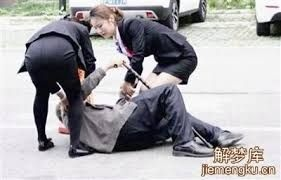falling: (59, 55, 246, 160)
